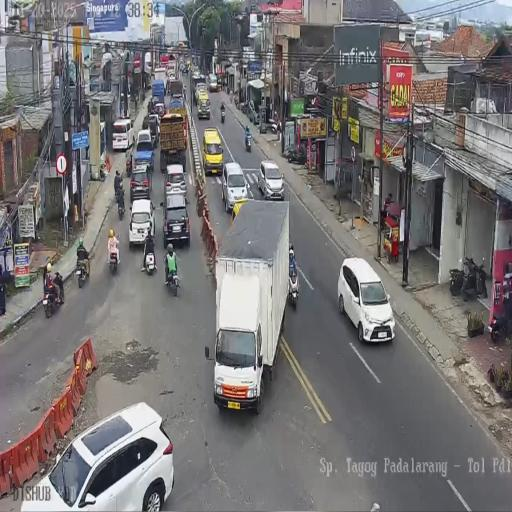3: (210, 201, 288, 413), (158, 112, 187, 172), (153, 67, 168, 95), (191, 73, 204, 101), (144, 51, 152, 74)
car: (19, 400, 174, 510), (338, 255, 393, 342), (128, 199, 155, 250), (222, 161, 248, 212), (258, 159, 285, 201), (202, 126, 224, 174), (129, 163, 152, 204), (164, 163, 187, 201), (112, 117, 136, 152), (147, 113, 161, 145), (135, 137, 154, 160), (243, 99, 259, 124), (152, 100, 166, 120), (169, 93, 184, 110), (208, 73, 218, 93), (166, 69, 176, 84), (180, 62, 188, 74)
truck: (450, 254, 487, 300), (43, 276, 64, 318), (488, 306, 509, 344), (164, 256, 180, 295), (142, 239, 157, 276), (76, 249, 90, 287), (285, 144, 306, 164), (108, 242, 120, 276), (267, 113, 281, 134), (116, 191, 125, 220), (126, 154, 132, 177), (245, 129, 251, 151), (220, 107, 225, 123), (183, 84, 186, 102)
